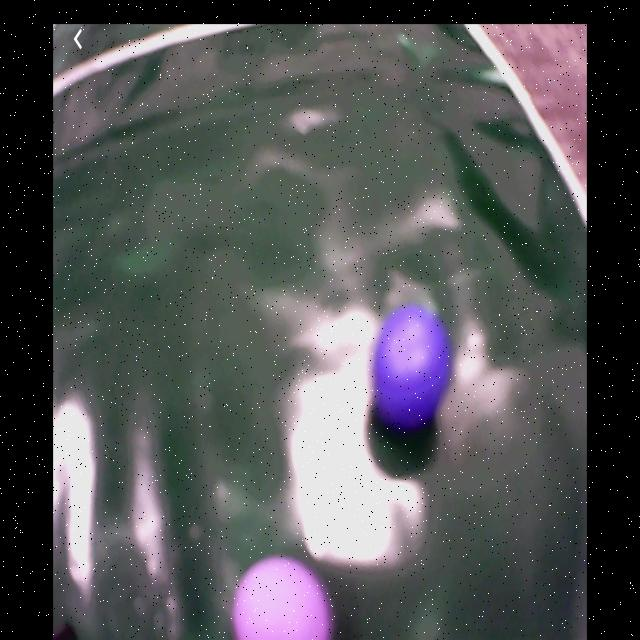ball: (371, 303, 451, 428), (232, 559, 334, 640)
